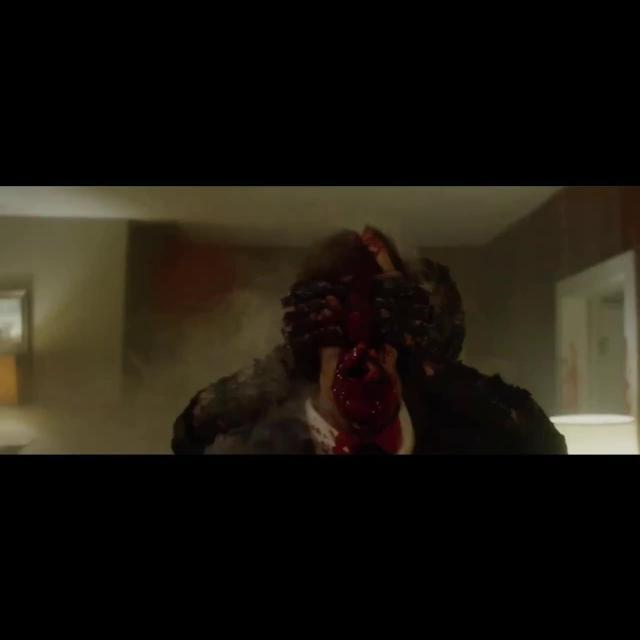blood: (306, 228, 402, 455)
